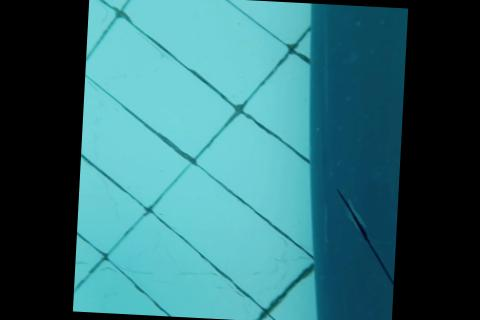keretakan: (330, 186, 398, 289)
